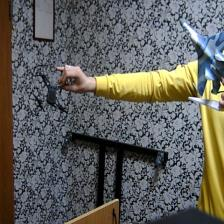drone: (28, 60, 70, 127)
